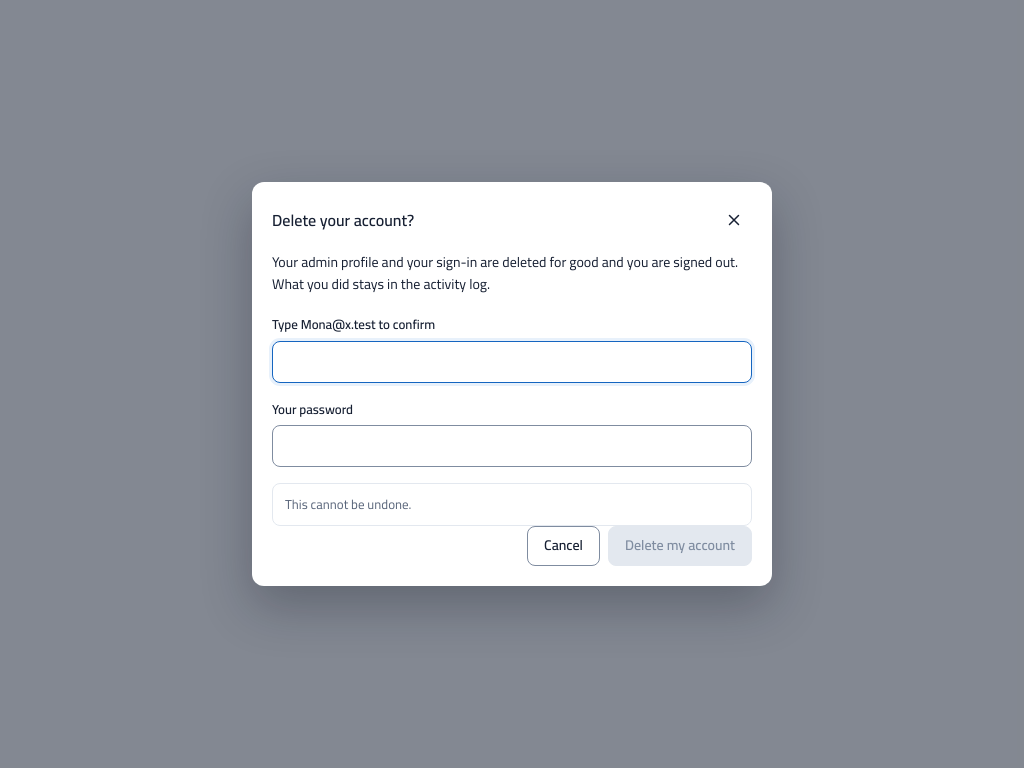
it: deleting your own account › deletes with the password given, then closes
The width and height of the screenshot is (1024, 768).
Type " mona@X.test " into the field labelled "Type Mona@x.test to confirm" at [512, 362], box x1=272 y1=341 x2=752 y2=383
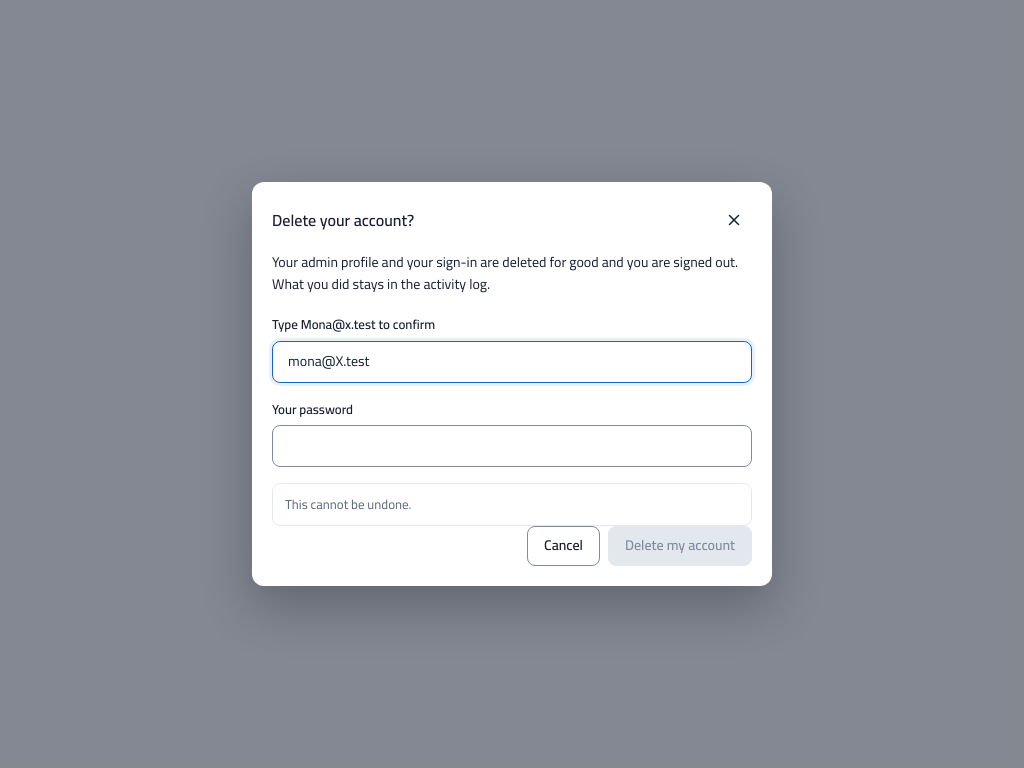
Type "secret12" into the password field labelled "Your password" at [512, 446], box x1=272 y1=425 x2=752 y2=467
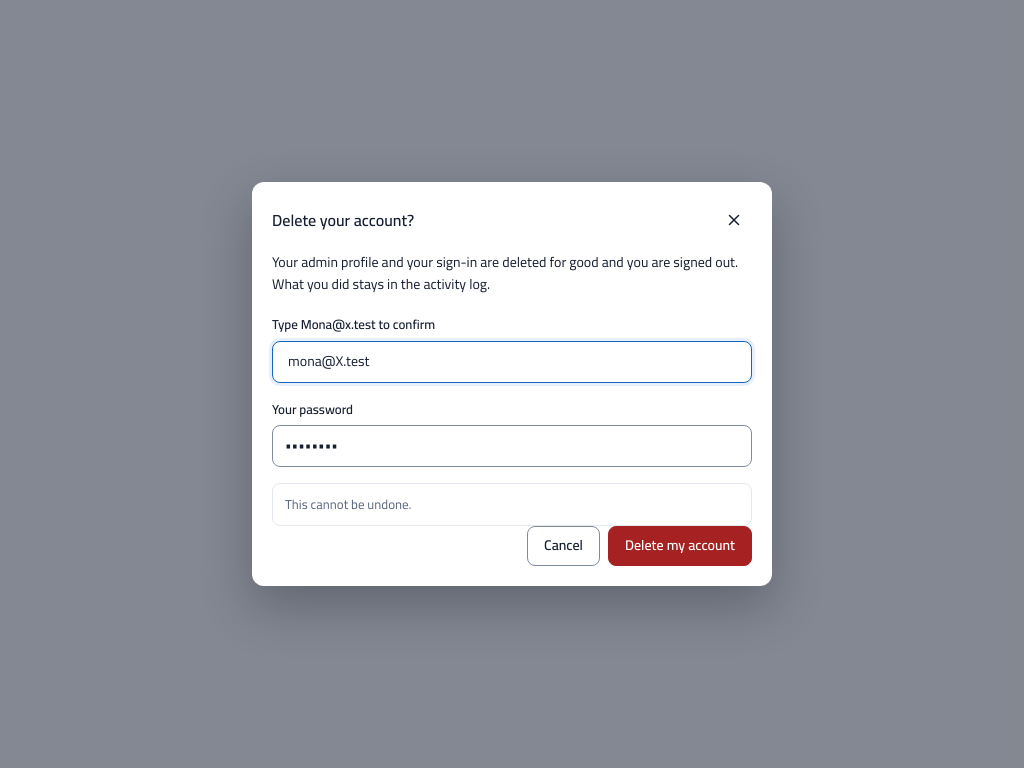
Click the button "Delete my account" at [680, 546], box x1=608 y1=526 x2=752 y2=566
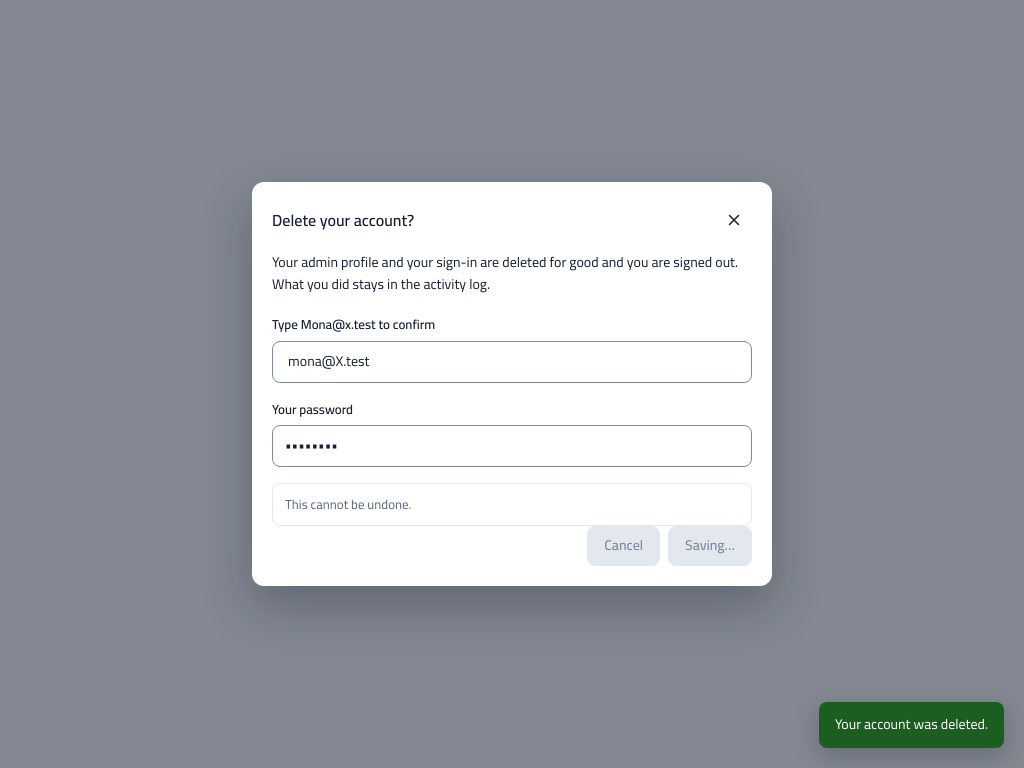
Result: the text "Your account was deleted." is shown at x1=819 y1=702 x2=1004 y2=748
